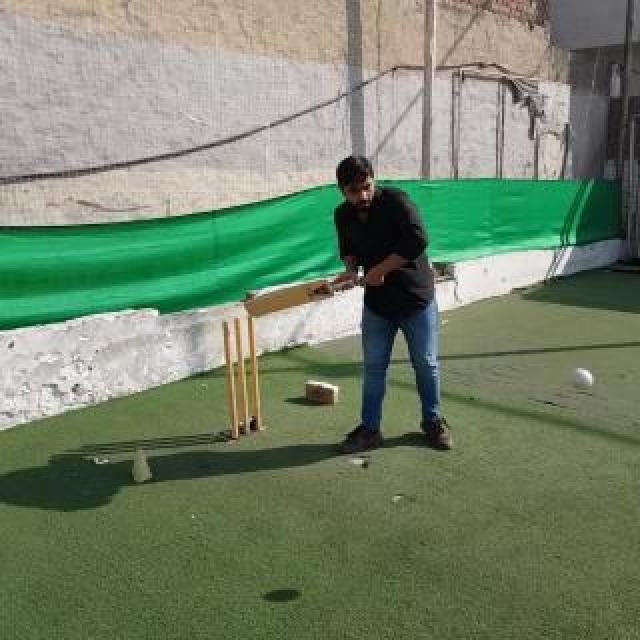ball: (569, 369, 593, 389)
bat: (244, 278, 364, 318)
